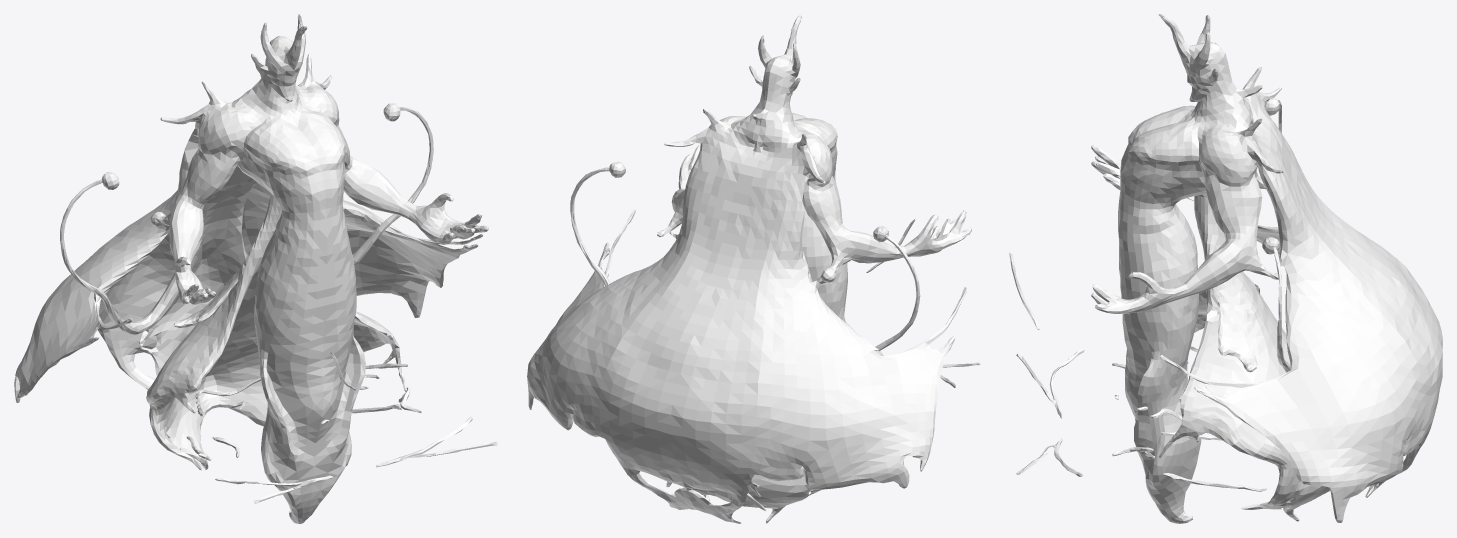
File: being.glb
3 renders of one model, left to right at view 1: azimuth 30°, elevation 25°; view 2: azimuth 150°, elevation 25°; view 3: azimuth 270°, elevation 25°, orthographic. The views are drawn at different scales.
Visible parts, largest first — view 1: Mesh1.0; view 2: Mesh1.0; view 3: Mesh1.0.
Part boxes in pixels (<box>): Mesh1.0: <box>14,14,498,523</box>; Mesh1.0: <box>527,14,980,523</box>; Mesh1.0: <box>1009,14,1442,523</box>.
Size of the model in its own units: 1.66 by 1.91 by 1.47.
1 material, 1 textured.
